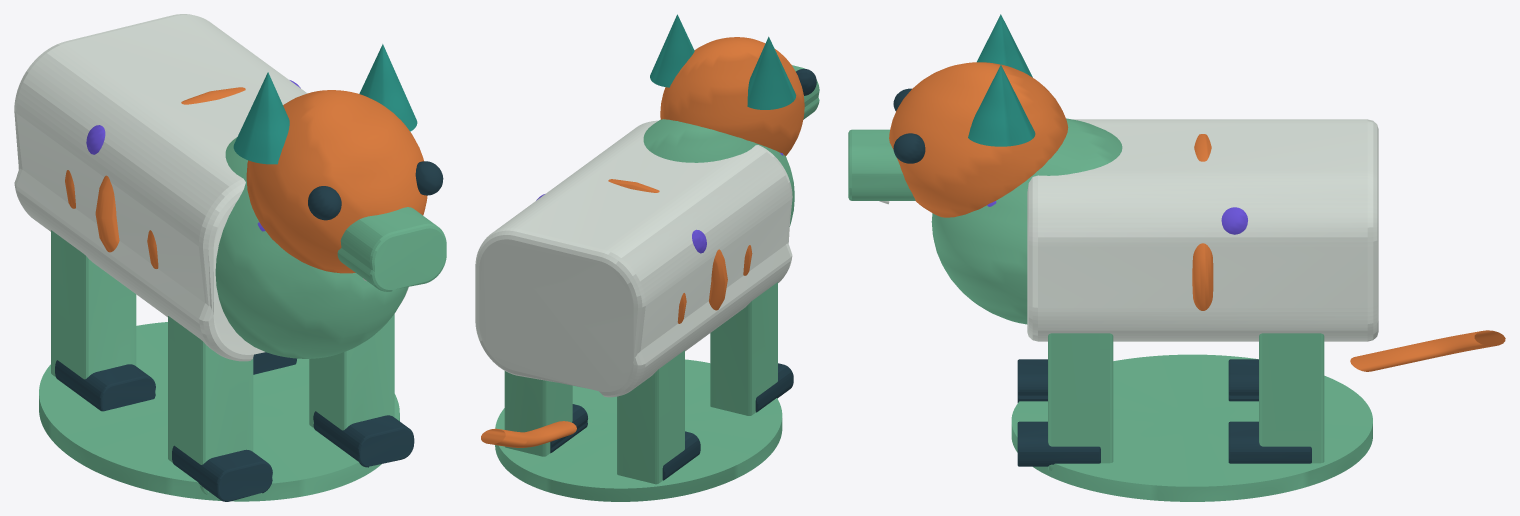
File: 0161_恐龙图鉴_蜀龙.glb
3 views of the same model, side by side, from view 1: azimuth 30°, elevation 25°; view 2: azimuth 150°, elevation 25°; view 3: azimuth 270°, elevation 25° (orthographic). The views are drawn at different scales.
Parts seen in each view (by area): view 1: card_0161; view 2: card_0161; view 3: card_0161.
Part boxes in pixels (box(x1,y1,x2,y2)): card_0161: box(14, 14, 446, 501); card_0161: box(475, 14, 819, 501); card_0161: box(848, 14, 1505, 501).
Size of the model in its own units: 0.713 by 1 by 1.5.
